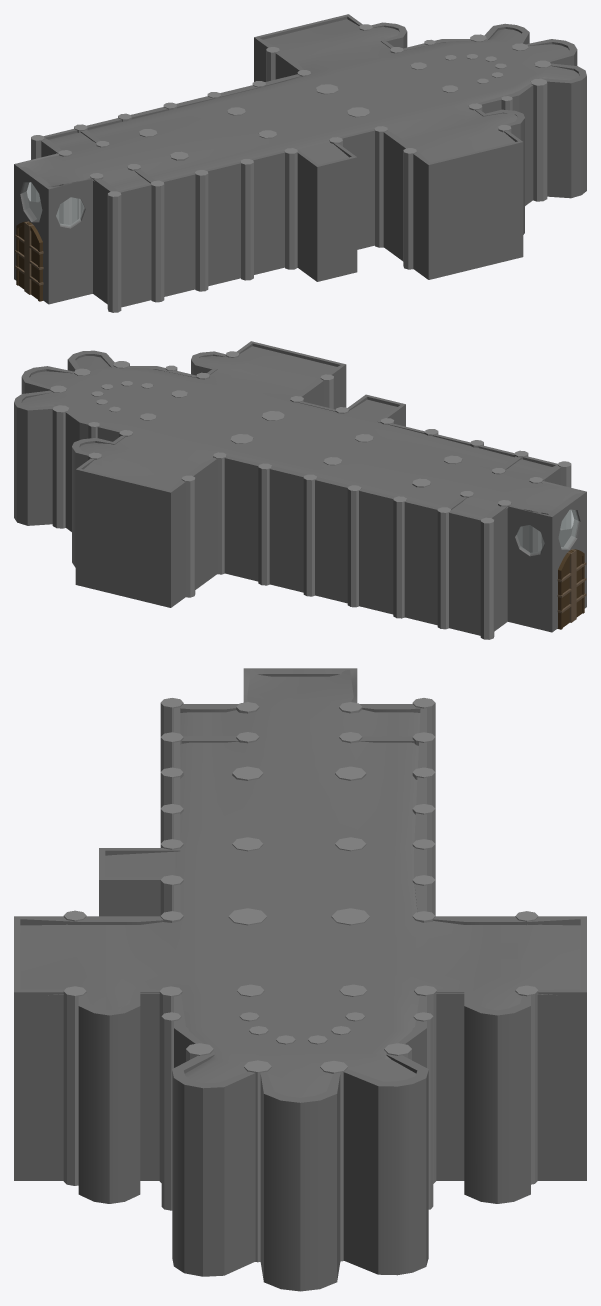
File: cathedrale.fbx
3 views of the same model, one above another, from view 1: azimuth 30°, elevation 25°; view 2: azimuth 150°, elevation 25°; view 3: azimuth 270°, elevation 25° (orthographic). The views are drawn at different scales.
Visible parts, largest first — view 1: murs, plafond, Pilliers, porte, Ornement_porte, fenetre2, fenetre; view 2: murs, plafond, Pilliers, porte, Ornement_porte, fenetre1, fenetre; view 3: murs, plafond, Pilliers.
Part boxes in pixels (x1,y1,x2,y2): murs: (14, 14, 586, 307); plafond: (19, 19, 578, 191); Pilliers: (31, 24, 550, 312); porte: (16, 221, 43, 301); Ornement_porte: (15, 221, 43, 294); fenetre2: (56, 197, 84, 226); fenetre: (22, 182, 42, 221); murs: (14, 341, 586, 635); plafond: (22, 346, 582, 518); Pilliers: (50, 351, 571, 639); porte: (557, 549, 584, 629); Ornement_porte: (557, 549, 586, 622); fenetre1: (516, 525, 544, 554); fenetre: (558, 509, 578, 548); murs: (14, 668, 586, 1291); plafond: (20, 670, 580, 1097); Pilliers: (63, 698, 538, 1262).
Bounding box in the file's own units: 0.0925 × 0.0188 × 0.0512.
